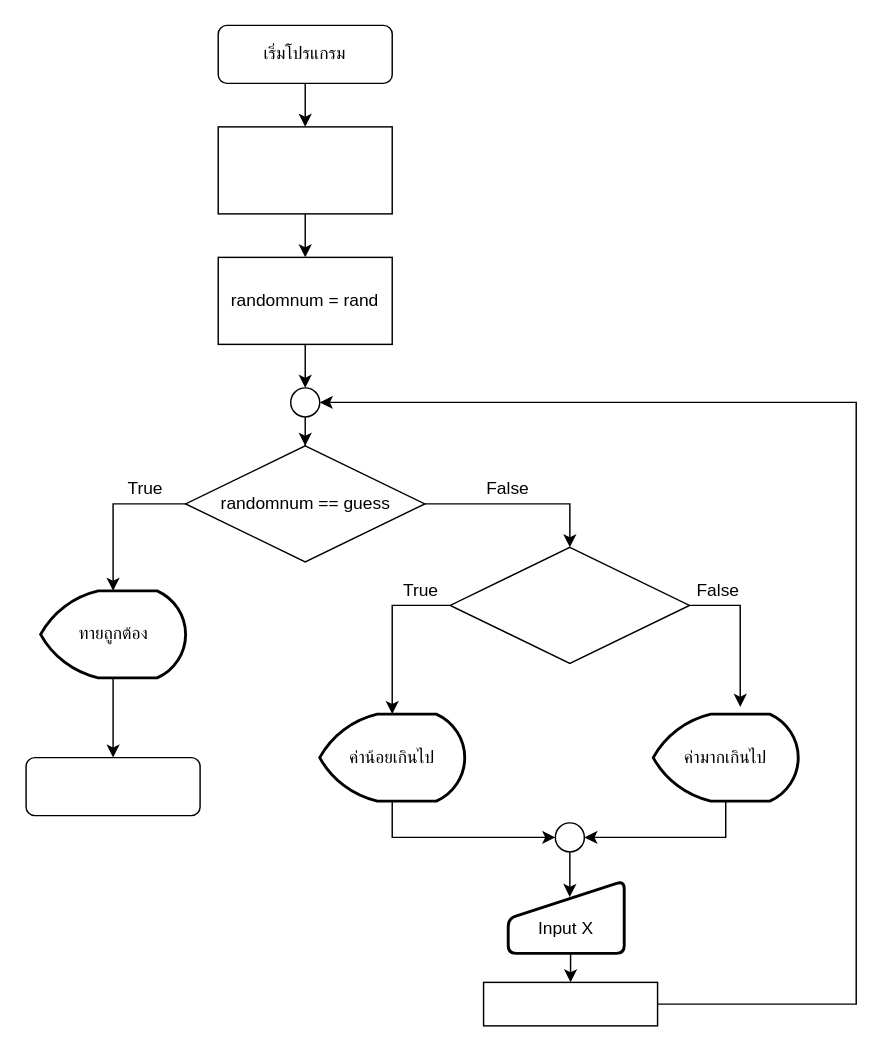
This 893x1051 diagram has some shape labels left out. The box of each missing label's shape, as (x1, y1, x2, y2) in pixels:
count = count + 1: (482, 981, 658, 1026)
randomnum = 0 count = 1 guess = 0: (217, 125, 392, 214)
randomnum > guess: (449, 546, 689, 663)
จบการทำงาน: (25, 756, 200, 816)
